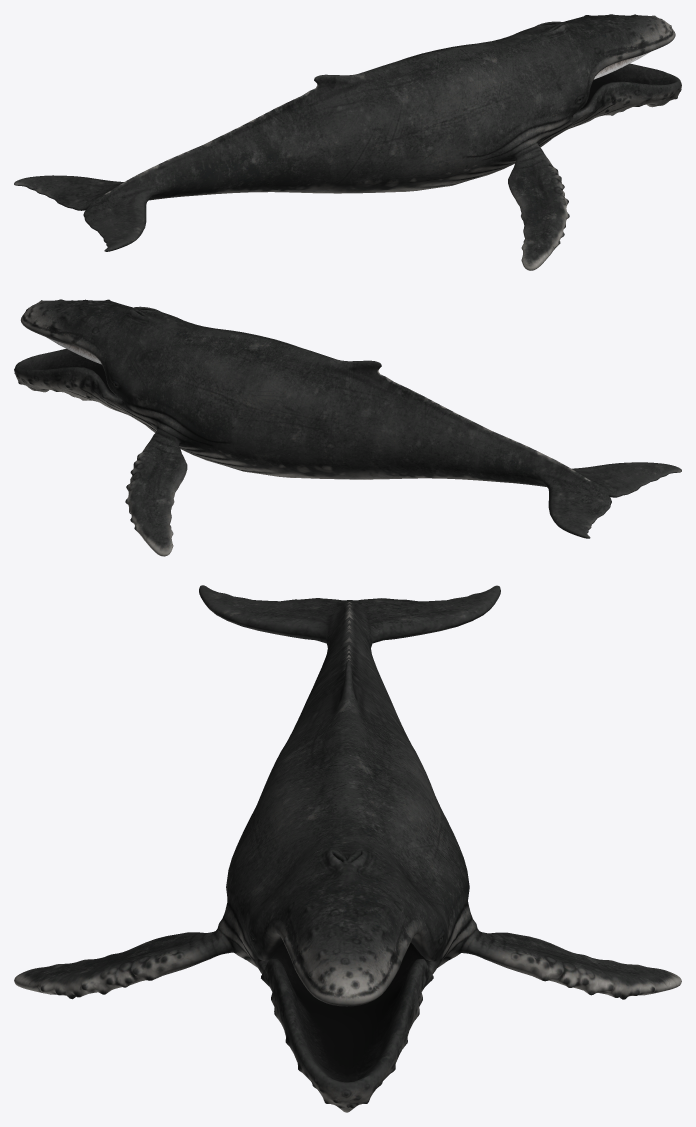
Rendered from HumpBack.fbx.
3 views of the same model, one above another, from view 1: azimuth 30°, elevation 25°; view 2: azimuth 150°, elevation 25°; view 3: azimuth 270°, elevation 25° (orthographic). The views are drawn at different scales.
Parts seen in each view (by area): view 1: Body; view 2: Body; view 3: Body.
Boxes of the visible parts, box(x1,y1,x2,y2) form: Body: box(14, 14, 681, 270); Body: box(14, 299, 681, 556); Body: box(14, 585, 681, 1112).
Size of the model in its own units: 1916 by 432 by 1114.
2 materials, 2 textured.
